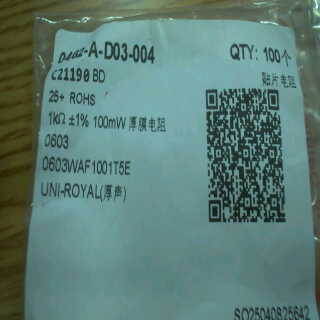1kR: (45, 107, 67, 130)
